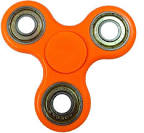fidget_spinner: (0, 0, 140, 132)
